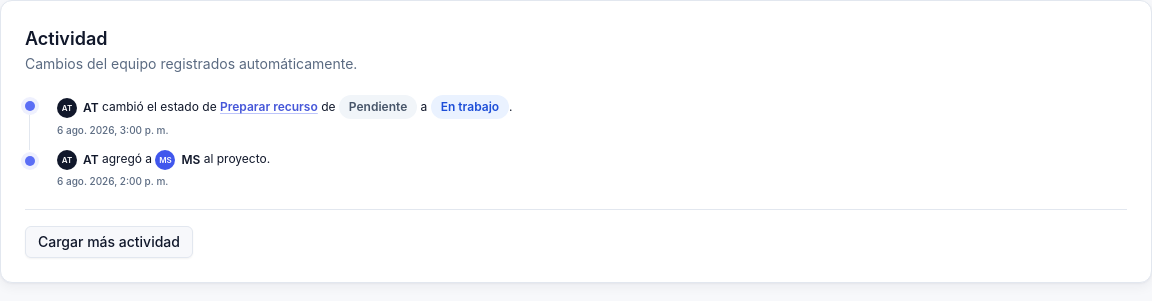
it: ProjectActivityFeed › requests ten recent events and appends the next page
The image size is (1152, 301).
Click the button "Cargar más actividad": (109, 242) [25,226,193,258]
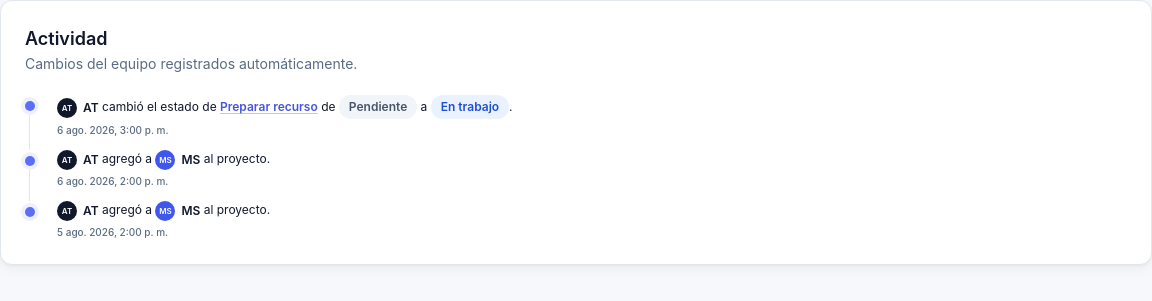
Now the number of list items is 3, box [25,95,513,136]; [25,150,270,187]; [25,201,270,238]
Now the button "Cargar más actividad" is gone
